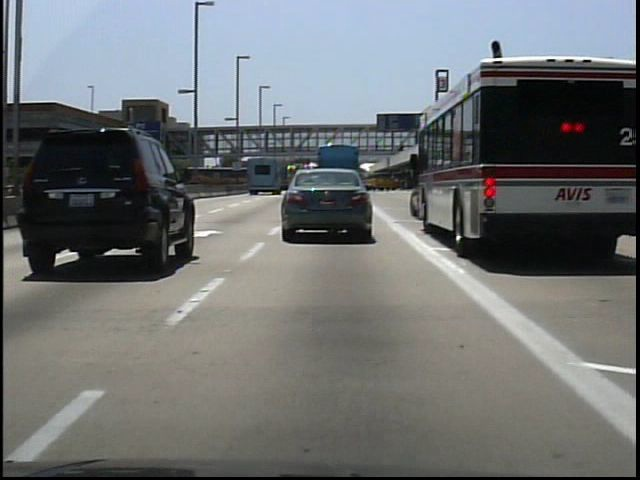person: (371, 137, 385, 157), (395, 136, 408, 157)
